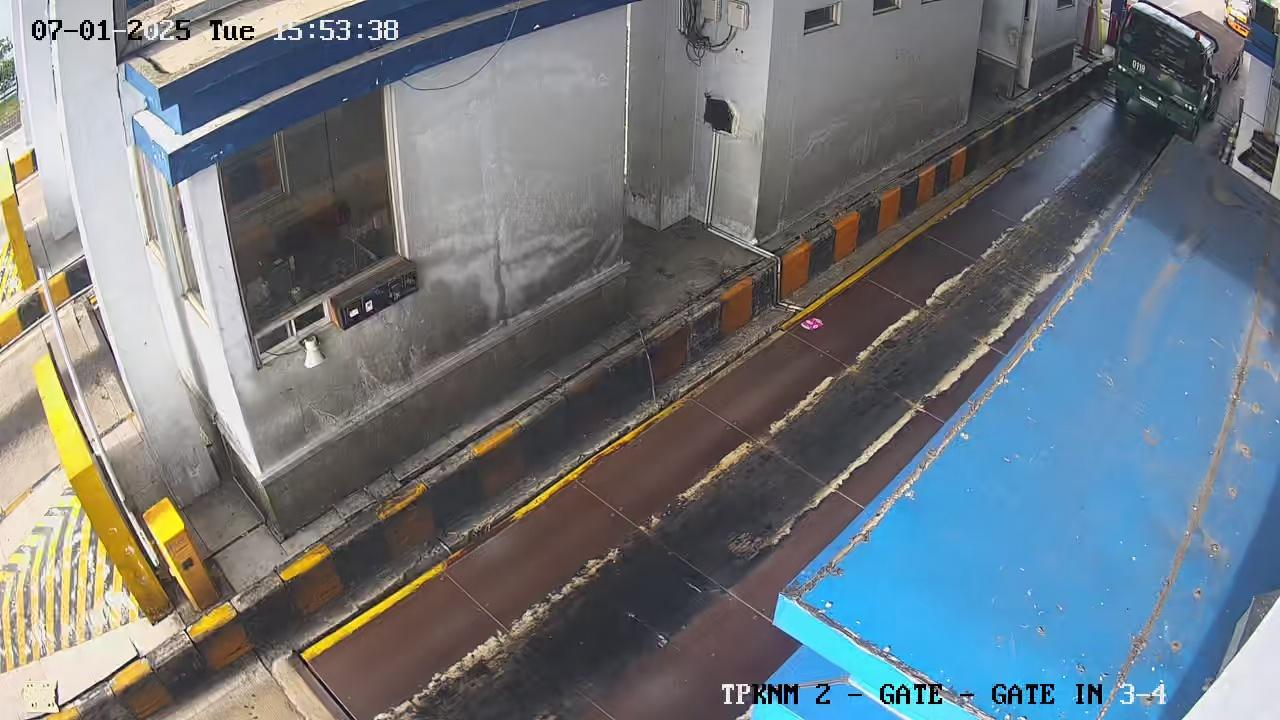truck_id: (1130, 57, 1150, 81)
